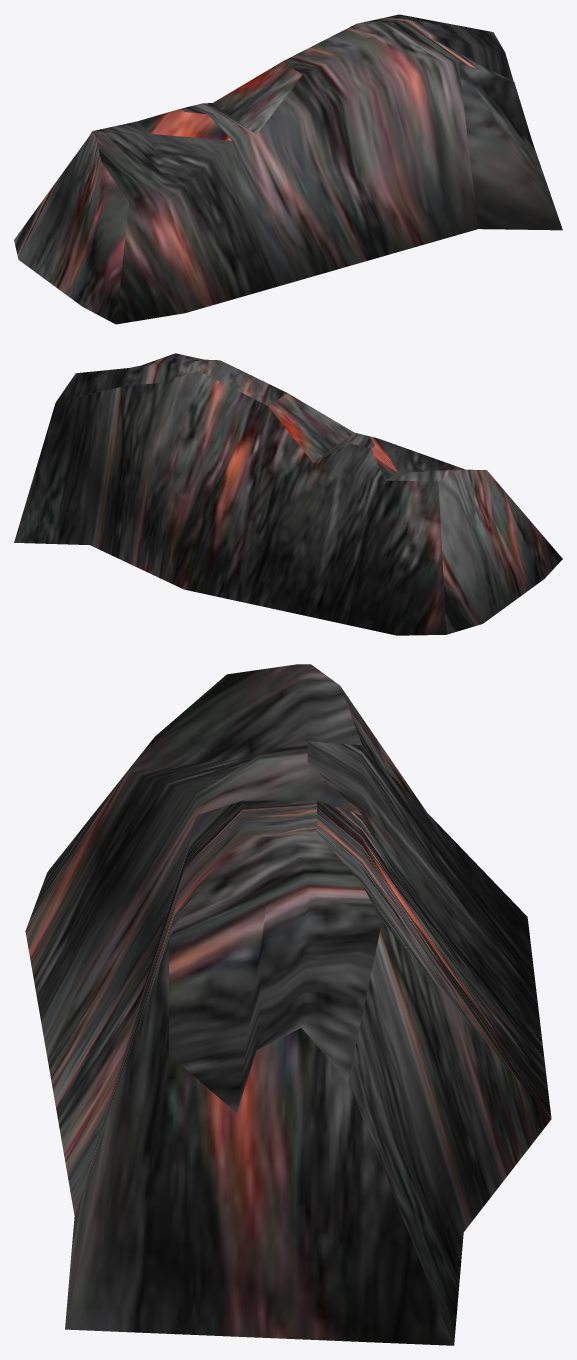
File: Roca05.fbx
3 views of the same model, one above another, from view 1: azimuth 30°, elevation 25°; view 2: azimuth 150°, elevation 25°; view 3: azimuth 270°, elevation 25° (orthographic). The views are drawn at different scales.
Visible parts, largest first — view 1: Cube; view 2: Cube; view 3: Cube.
Part boxes in pixels (box(x1,y1,x2,y2)): Cube: box(14, 14, 562, 324); Cube: box(14, 353, 562, 635); Cube: box(25, 664, 551, 1345).
Bounding box in the file's own units: 385 × 150 × 193.
